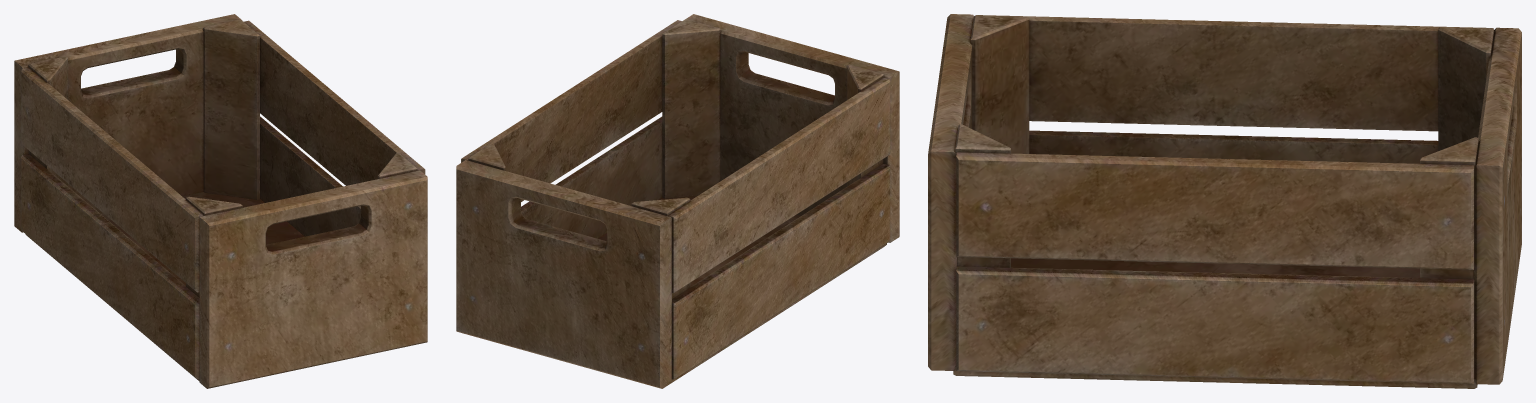
File: record-crate.glb
3 renders of one model, left to right at view 1: azimuth 30°, elevation 25°; view 2: azimuth 150°, elevation 25°; view 3: azimuth 270°, elevation 25°, orthographic. The views are drawn at different scales.
Parts seen in each view (by area): view 1: Object_2; view 2: Object_2; view 3: Object_2.
Part boxes in pixels (x1,y1,x2,y2): Object_2: [14, 14, 427, 388]; Object_2: [456, 14, 899, 388]; Object_2: [928, 14, 1521, 388].
Size of the model in its own units: 7.27 by 4.96 by 11.65.
Materials: 1 (1 with a texture image).
